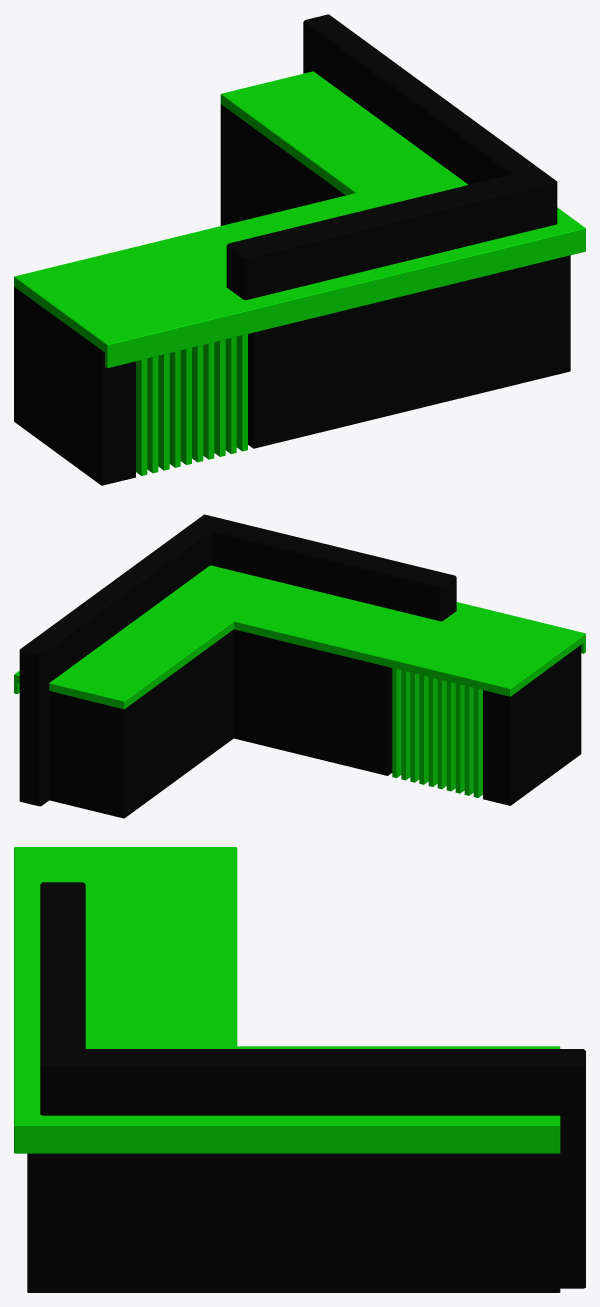
File: FBX_lobby_desk.fbx
The picture shows the model from 3 angles, top to bottom: view 1: azimuth 30°, elevation 25°; view 2: azimuth 150°, elevation 25°; view 3: azimuth 270°, elevation 25°; orthographic projection. The views are drawn at different scales.
Parts seen in each view (by area): view 1: FBX_lobby_desk; view 2: FBX_lobby_desk; view 3: FBX_lobby_desk.
Part boxes in pixels (box(x1,y1,x2,y2)): FBX_lobby_desk: box(14, 14, 585, 485); FBX_lobby_desk: box(14, 514, 585, 818); FBX_lobby_desk: box(14, 847, 585, 1292).
Bounding box in the file's own units: 408 × 154 × 354.
